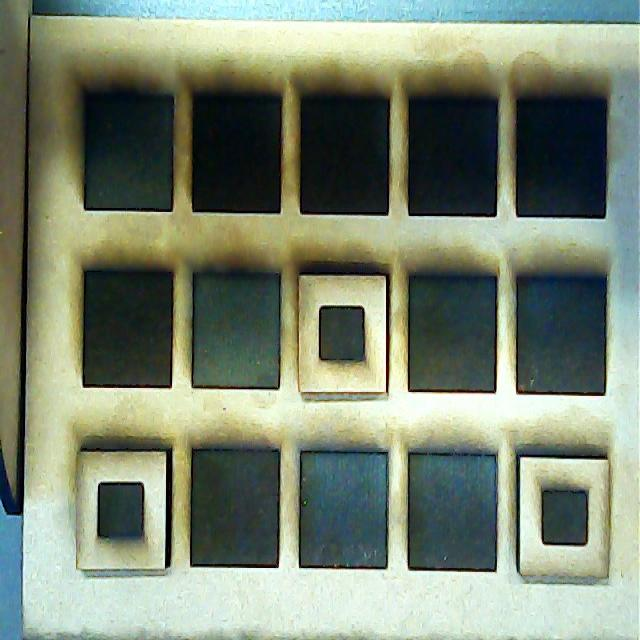square: (514, 454, 612, 583), (75, 448, 174, 572), (300, 268, 391, 400)
